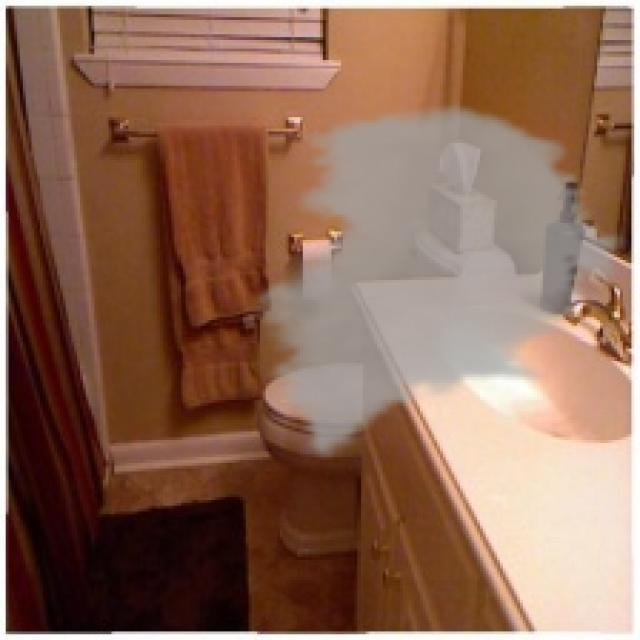Smoke: (243, 100, 632, 460)
